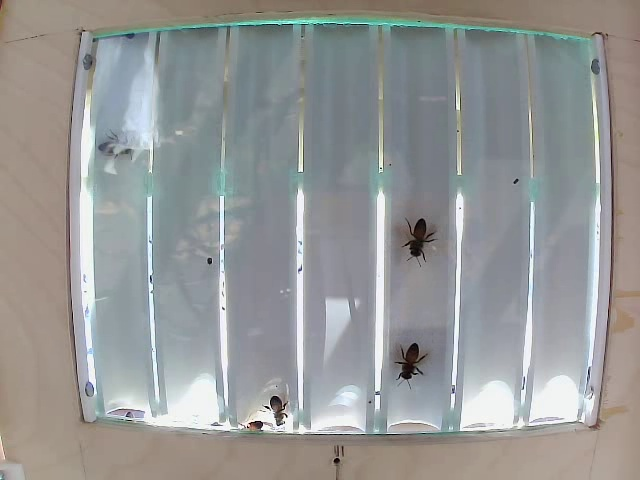bee: (400, 214, 437, 288), (98, 112, 141, 170), (395, 343, 437, 391), (261, 394, 301, 436)
